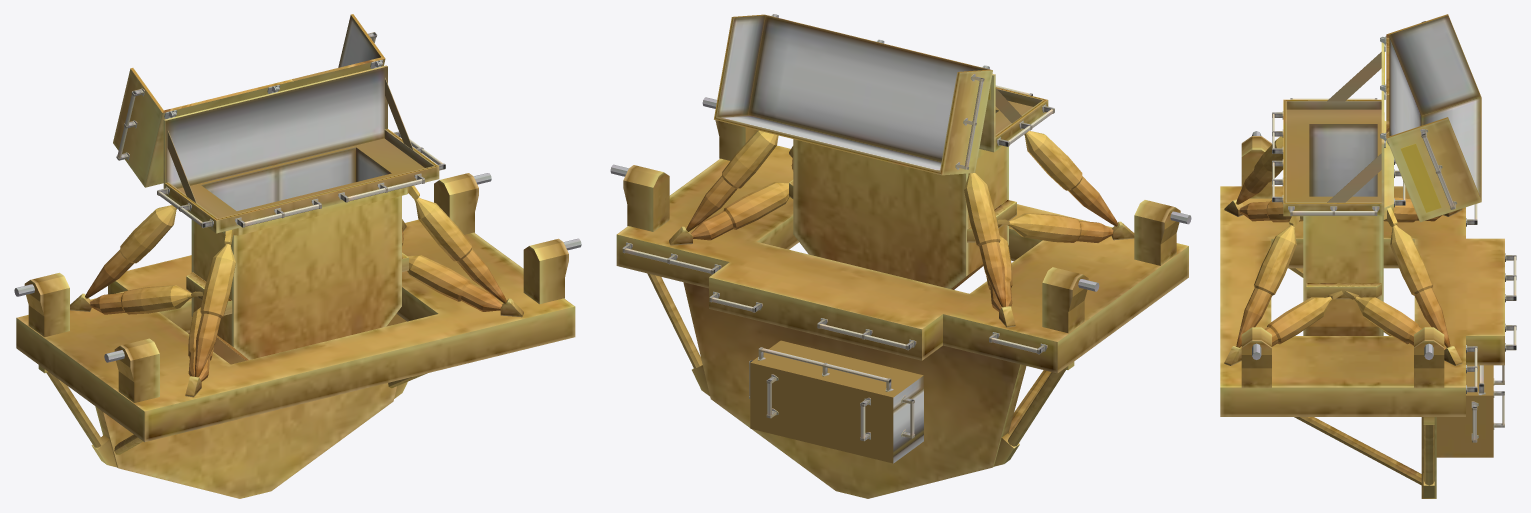
The model's file is super-lightweight-interchangeable.glb.
3 views of the same model, side by side, from view 1: azimuth 30°, elevation 25°; view 2: azimuth 150°, elevation 25°; view 3: azimuth 270°, elevation 25° (orthographic). The views are drawn at different scales.
Parts seen in each view (by area): view 1: spaceshutt; view 2: spaceshutt; view 3: spaceshutt.
Part boxes in pixels (x1,y1,x2,y2): spaceshutt: (14,14,581,498); spaceshutt: (610,14,1191,498); spaceshutt: (1220,14,1516,498).
Bounding box in the file's own units: 193 × 173 × 110.
2 materials, 2 textured.
